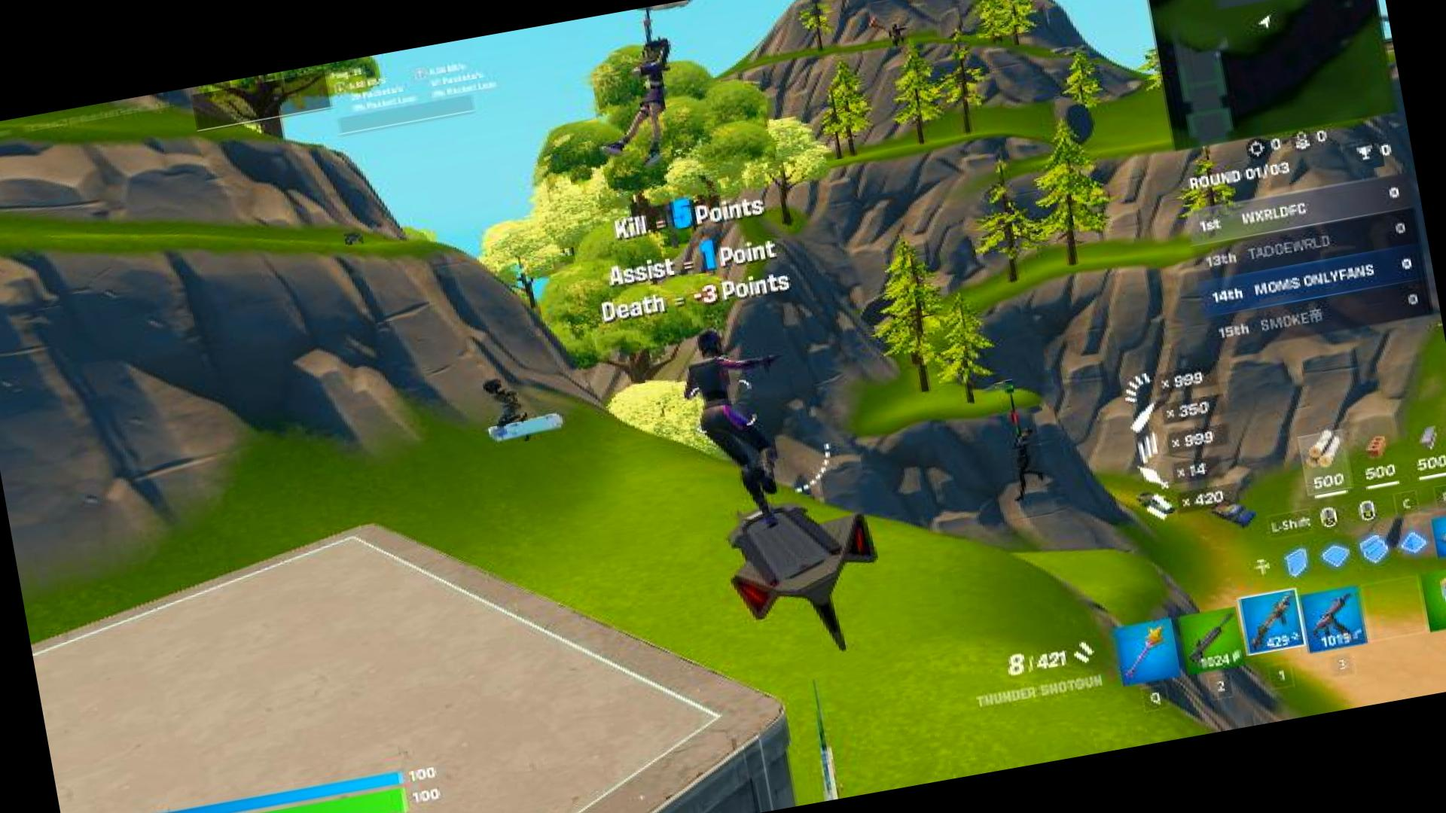player: (653, 304, 834, 545), (471, 367, 550, 444)
